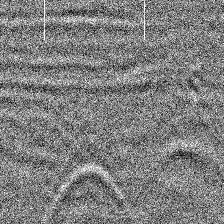Utility: (46, 160, 124, 222), (145, 139, 224, 181)
